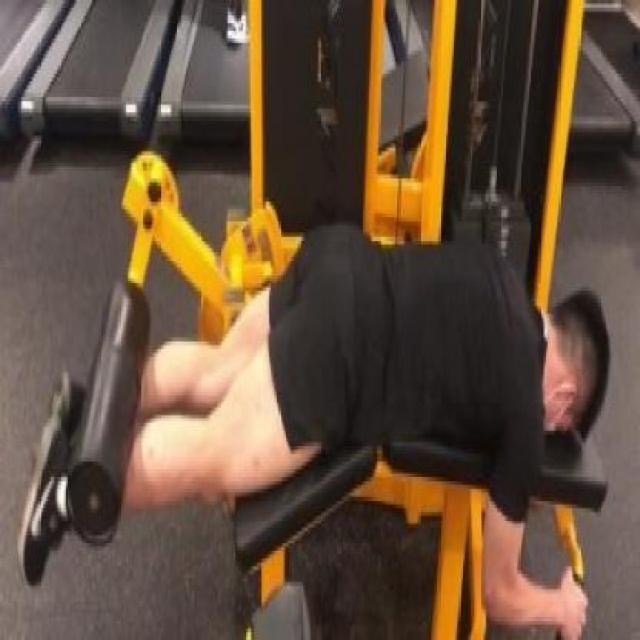reg curl machine: (16, 0, 616, 640)
